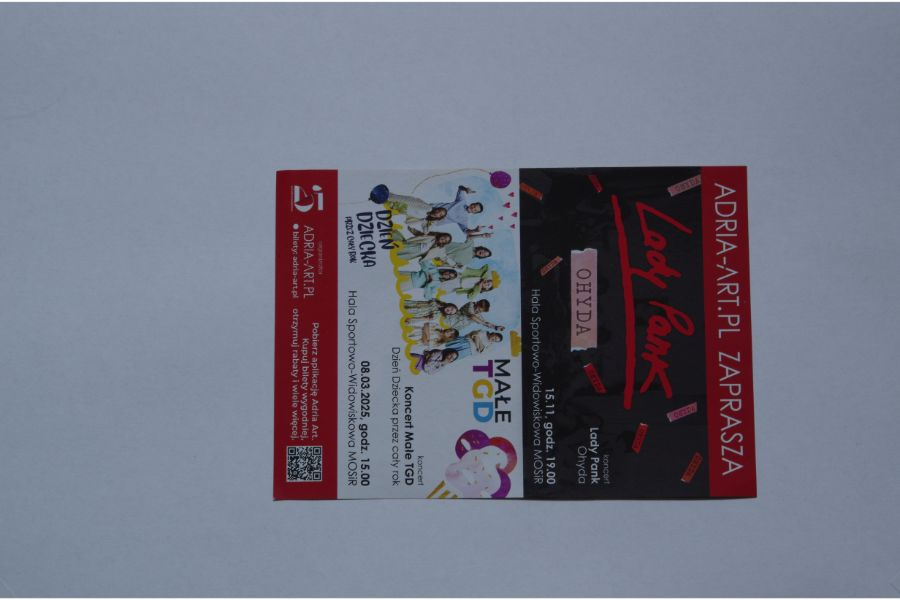album: (271, 167, 758, 501)
